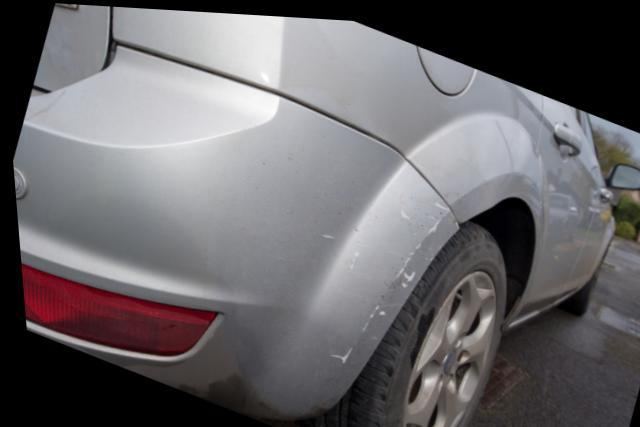scratch: (312, 193, 455, 367)
